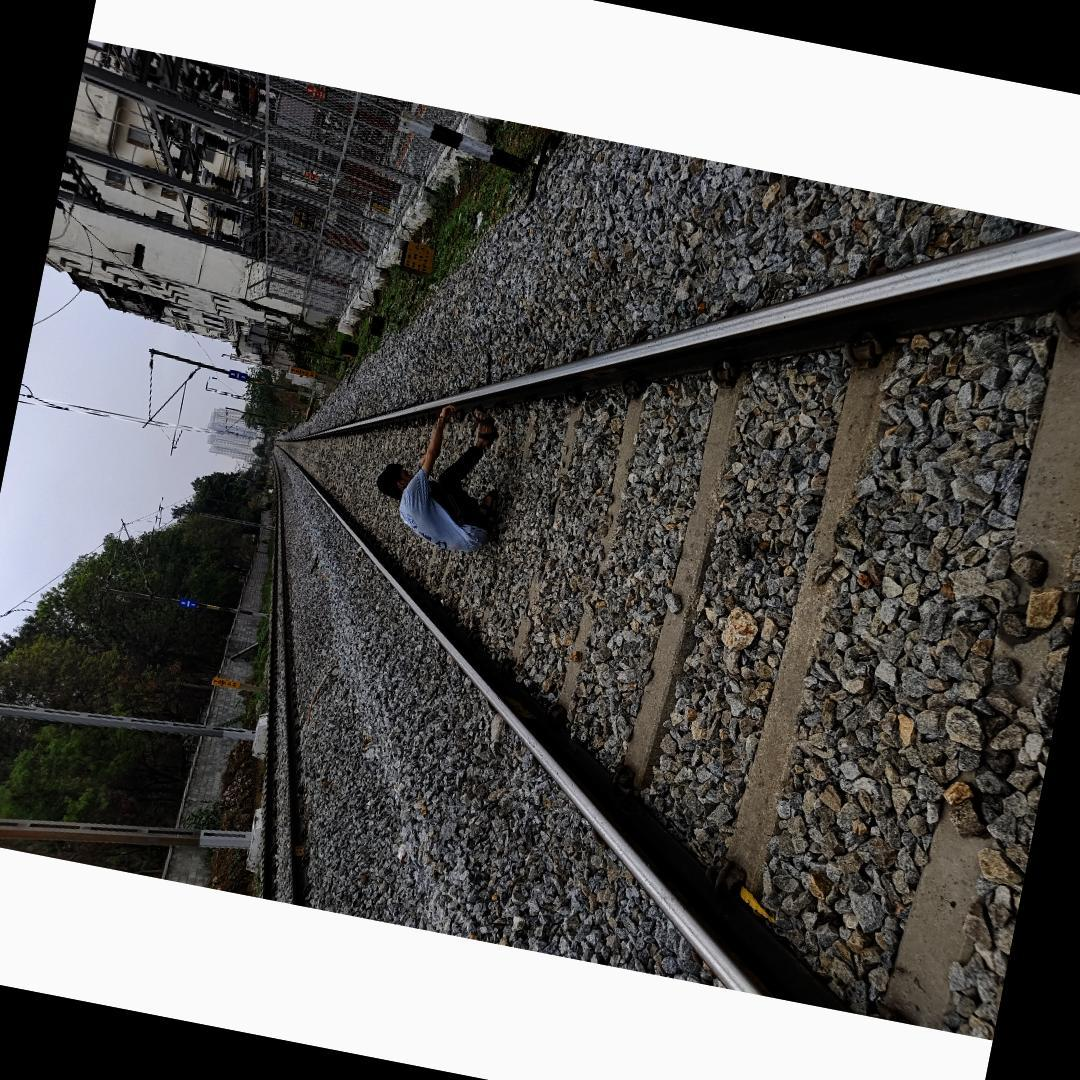sitting: (364, 392, 517, 560)
track: (270, 219, 1080, 1035)
